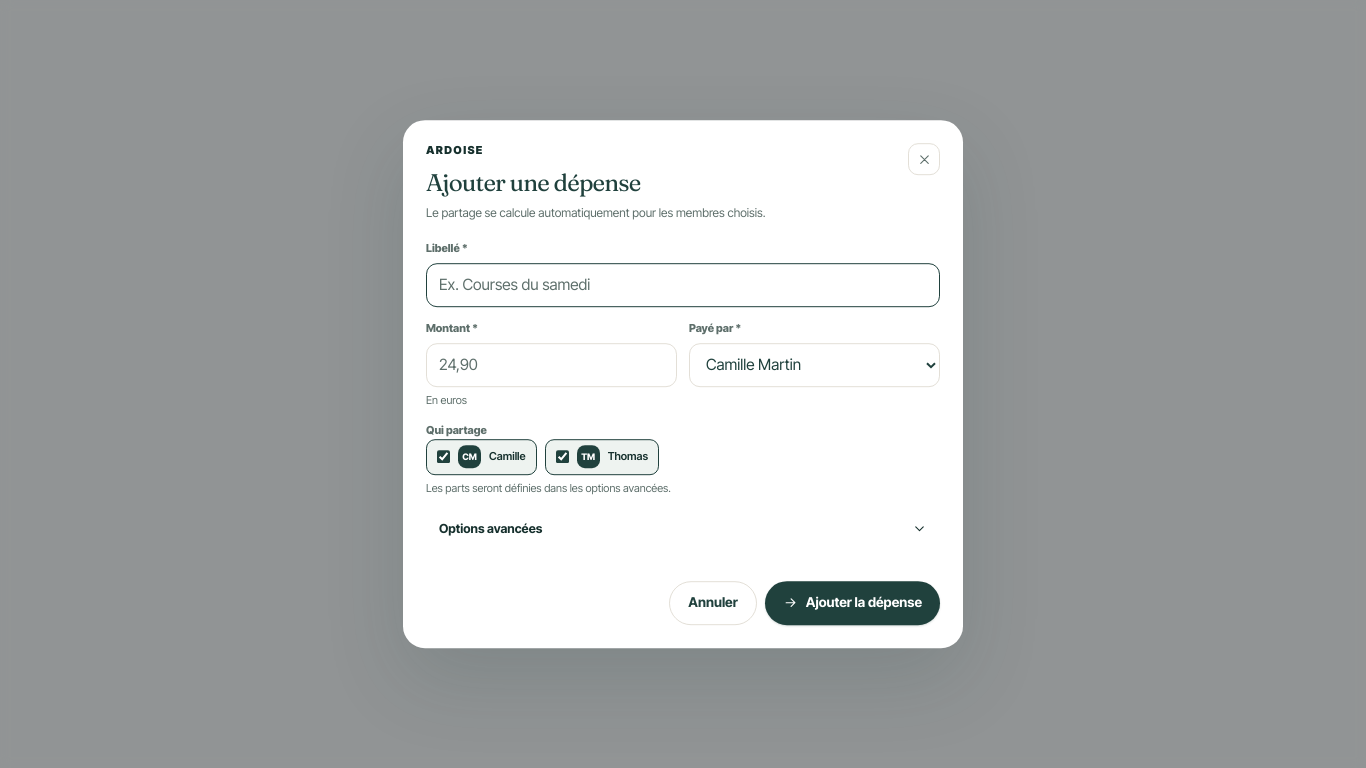
Test: ExpenseFormDialog — le partage personnalisé borne sa somme (WR-06) › refuse une somme supérieure au montant, avec l’écart chiffré
The image size is (1366, 768).
Type "Courses" into the field labelled "Libellé *" at point(683, 285), box [426,263,940,307]
Type "10" into the number field labelled "Montant *" at point(552, 365), box [426,343,677,387]
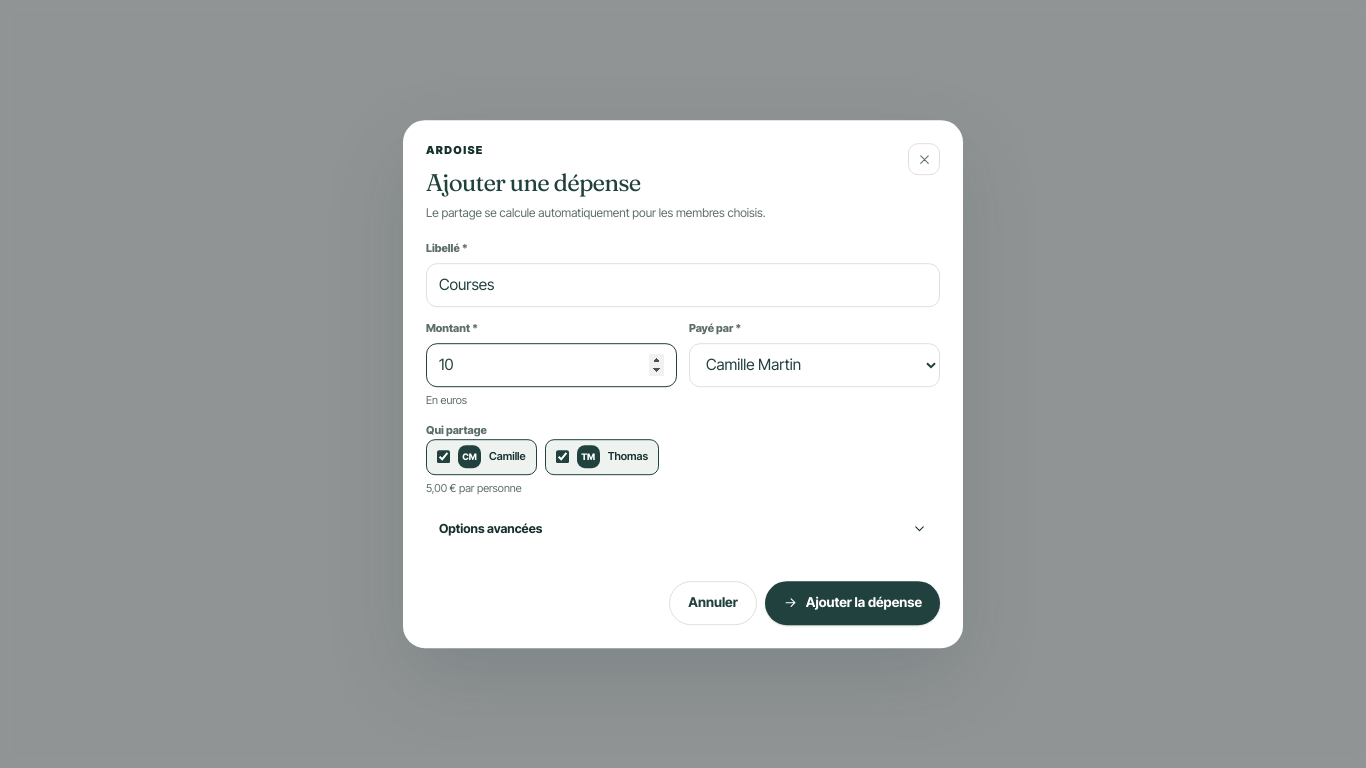
Click the button "Options avancées" at point(491, 528), box [426,511,940,547]
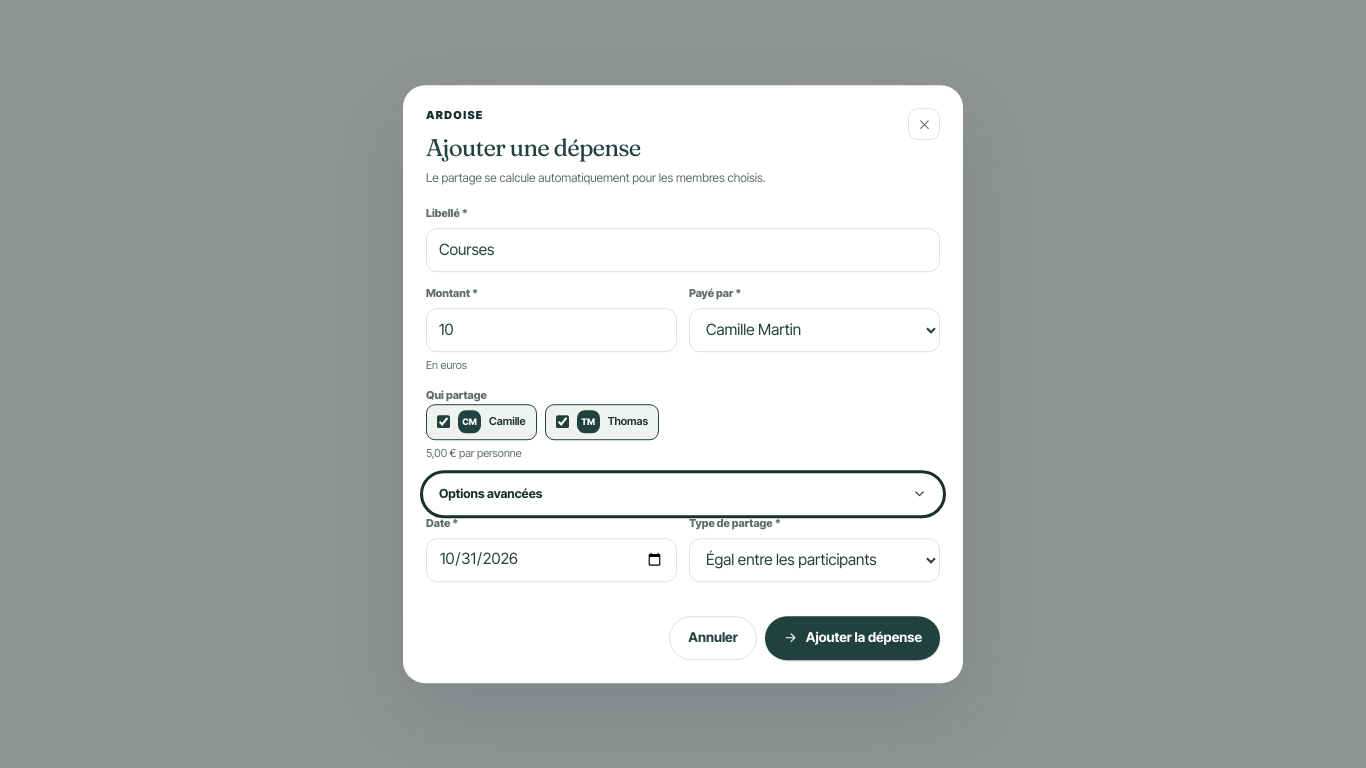
Select "Montants personnalisés" in the dropdown labelled "Type de partage *" at point(814, 560), box [689,538,940,582]
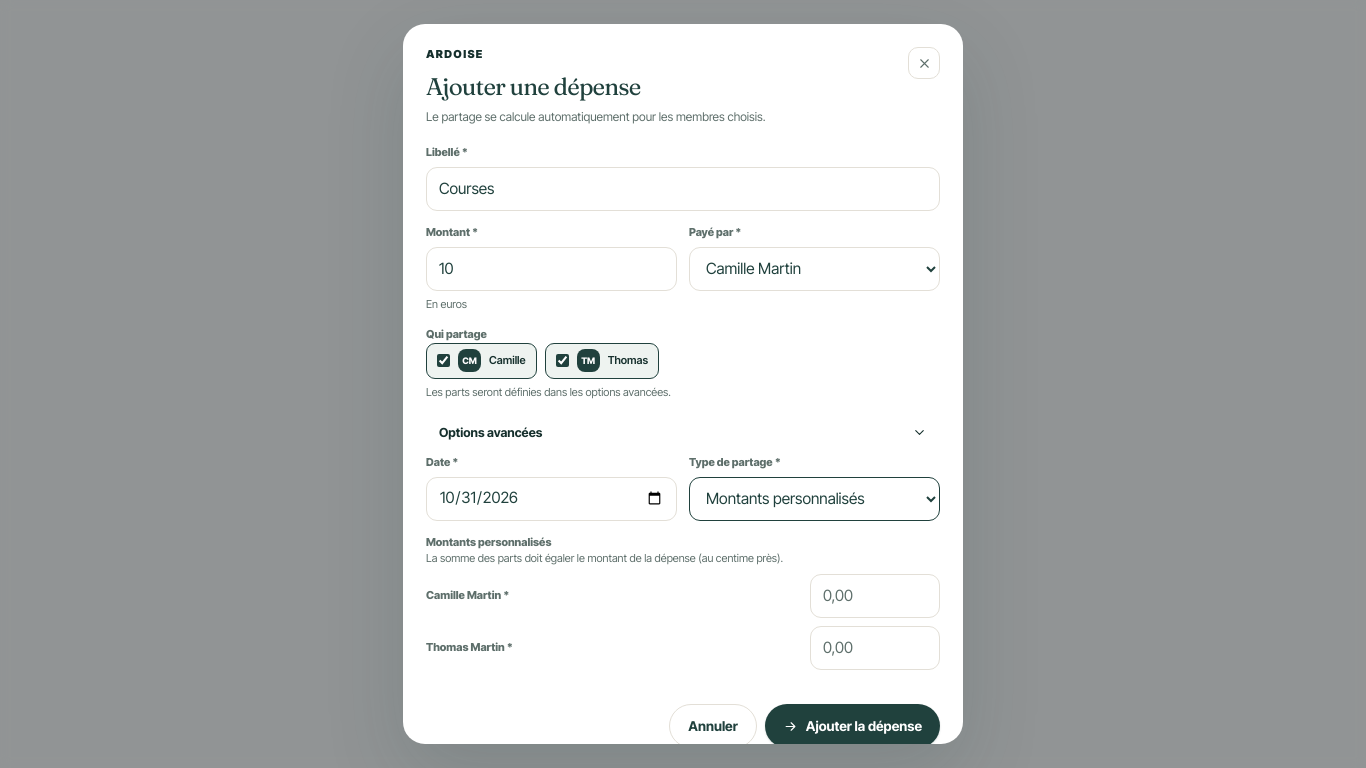
Type "10" into the number field labelled "Camille Martin *" at point(875, 596), box [810,574,940,618]
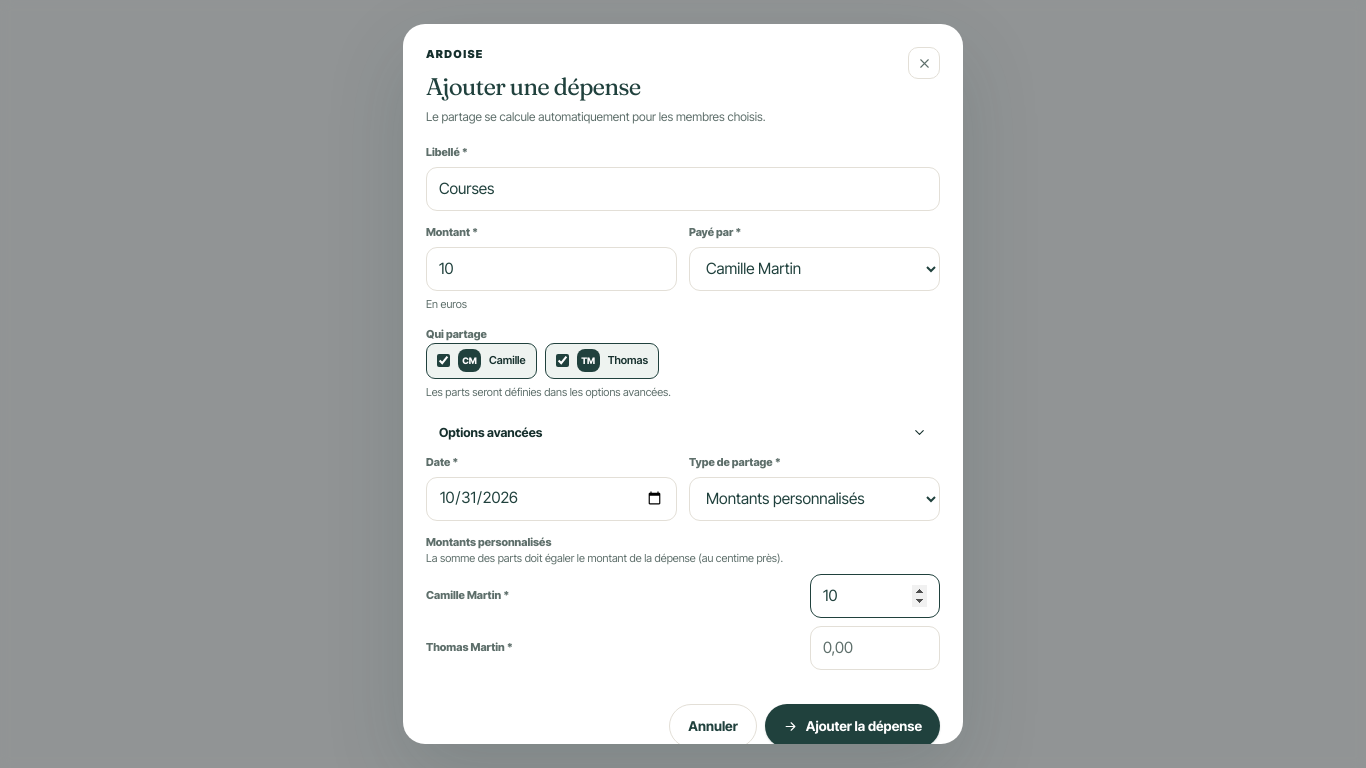
Type "10" into the number field labelled "Thomas Martin *" at point(875, 648), box [810,626,940,670]
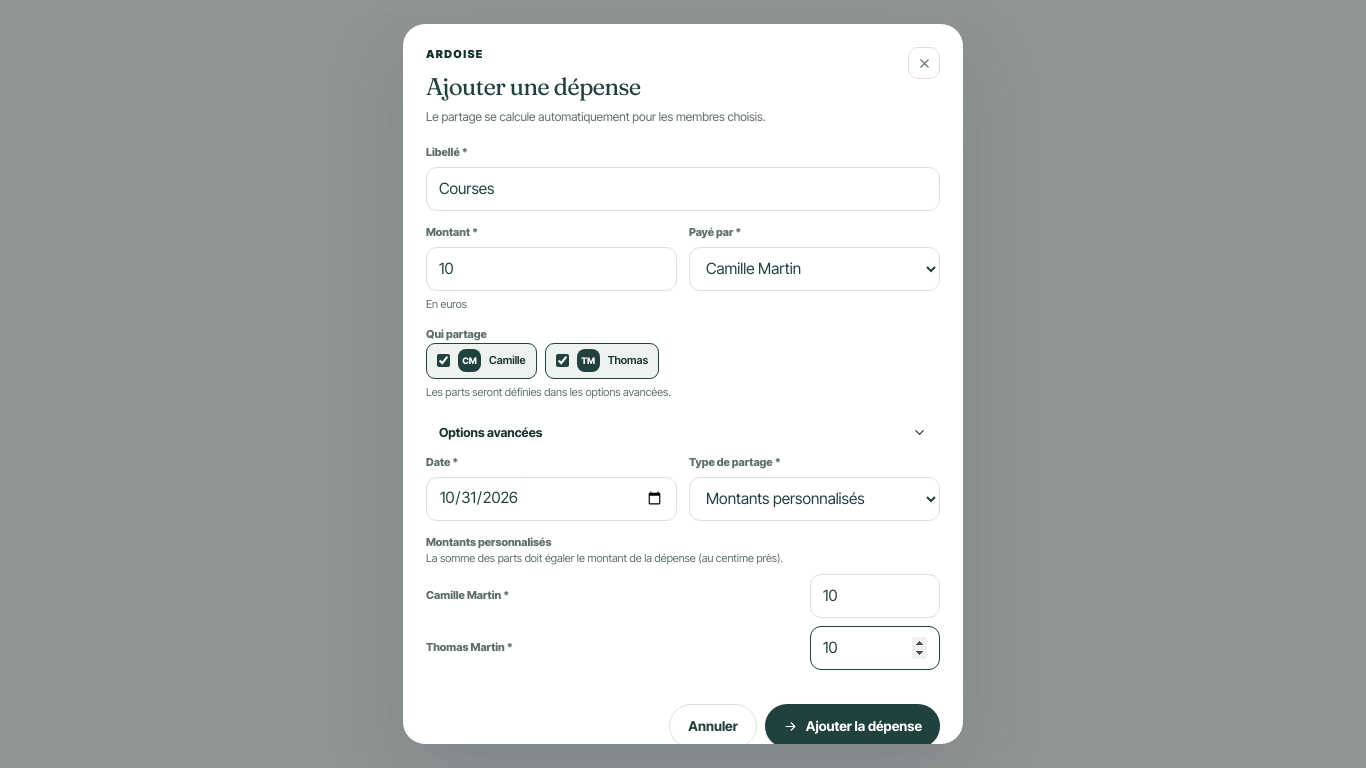
Click the button "Ajouter la dépense" at point(852, 726), box [765,704,940,748]
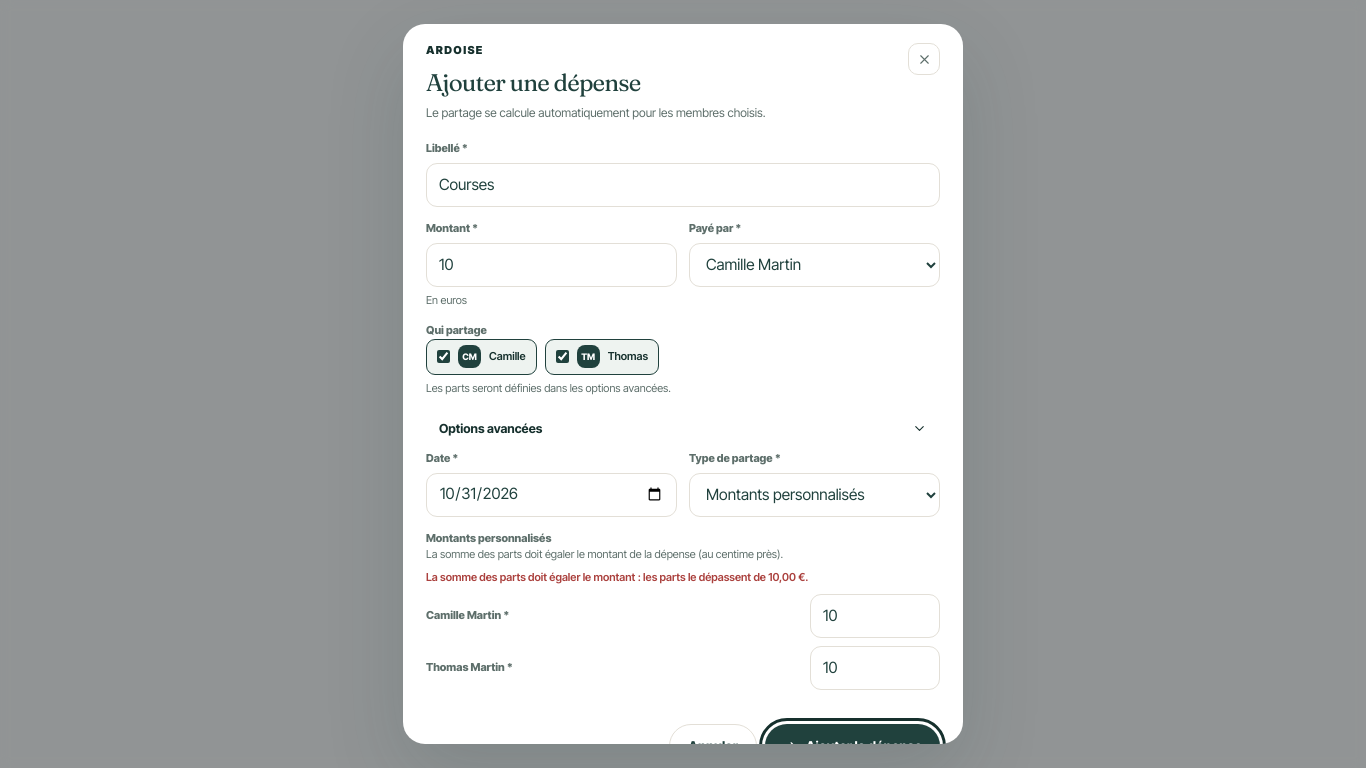
Now the text "La somme des parts doit égaler le montant : les parts le dépassent de 10,00 €." is shown, box [426,570,808,584]
